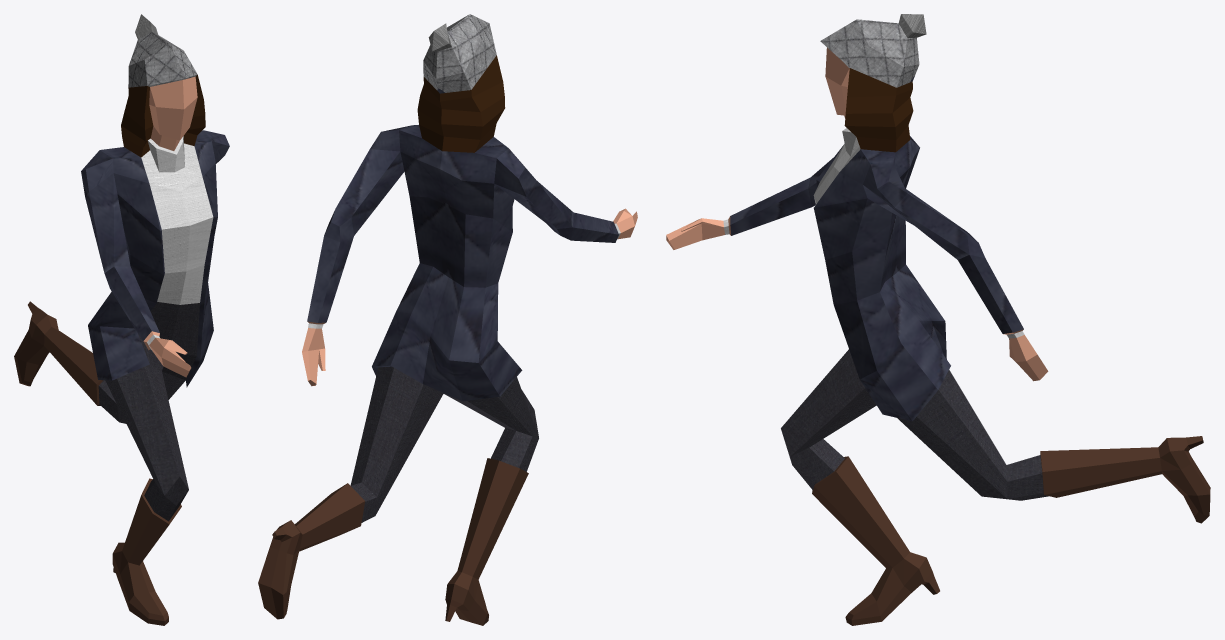
The model's file is AutumnWomanB.008.glb.
3 views of the same model, side by side, from view 1: azimuth 30°, elevation 25°; view 2: azimuth 150°, elevation 25°; view 3: azimuth 270°, elevation 25° (orthographic). The views are drawn at different scales.
Visible parts, largest first — view 1: AutumnWomanB.008; view 2: AutumnWomanB.008; view 3: AutumnWomanB.008.
Part boxes in pixels (x1,y1,x2,y2): AutumnWomanB.008: [14, 14, 229, 625]; AutumnWomanB.008: [258, 14, 637, 625]; AutumnWomanB.008: [666, 14, 1210, 625].
Size of the model in its own units: 0.4693 by 1.56 by 1.25.
1 material, 1 textured.
